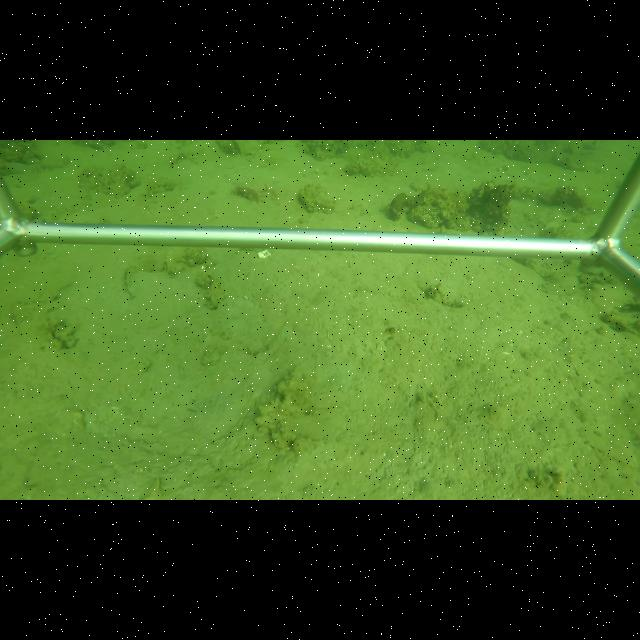Oyster-Closed: (121, 266, 194, 299)
